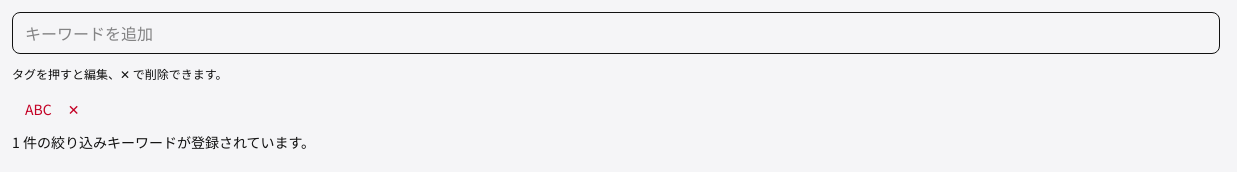
Test: KeywordFilterComponent › treats FormKC-equivalent keywords as duplicates
The image size is (1237, 172).
Type "ＡＢＣ" into the field with test id "keyword-filter-input" at point(616, 33), box top-left (12, 12), bottom-right (1220, 54)
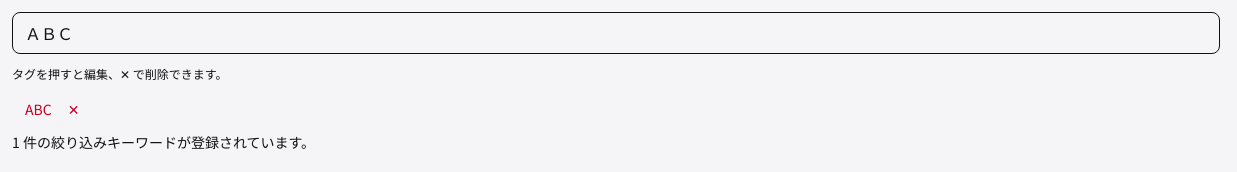
Press Enter in the field with test id "keyword-filter-input", box top-left (12, 12), bottom-right (1220, 54)
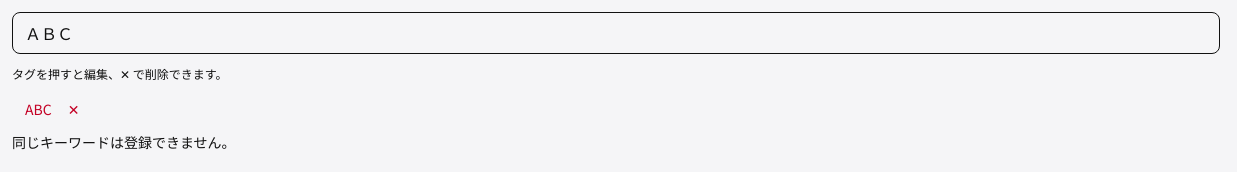
Now the text with test id "keyword-filter-status" shows "同じキーワード", box top-left (12, 132), bottom-right (236, 152)
